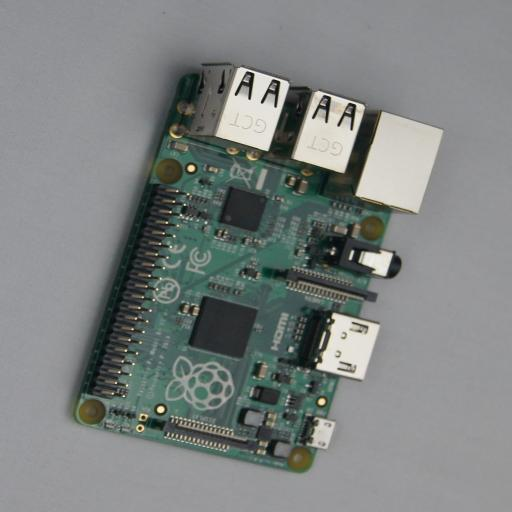Raspberry Pi 1 B-: (69, 57, 443, 473)
